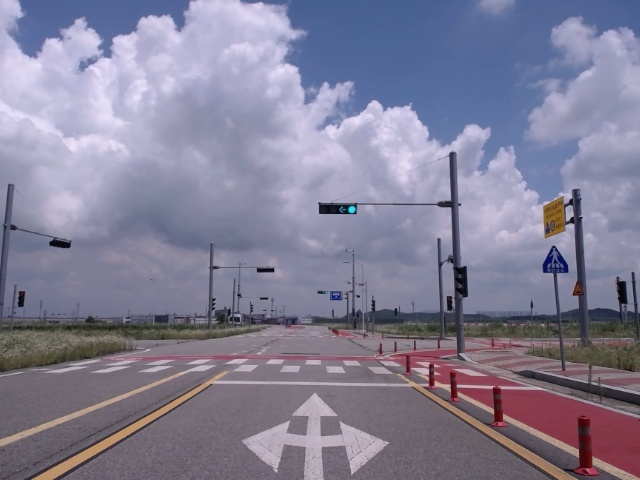all_green_4: (320, 202, 358, 213)
